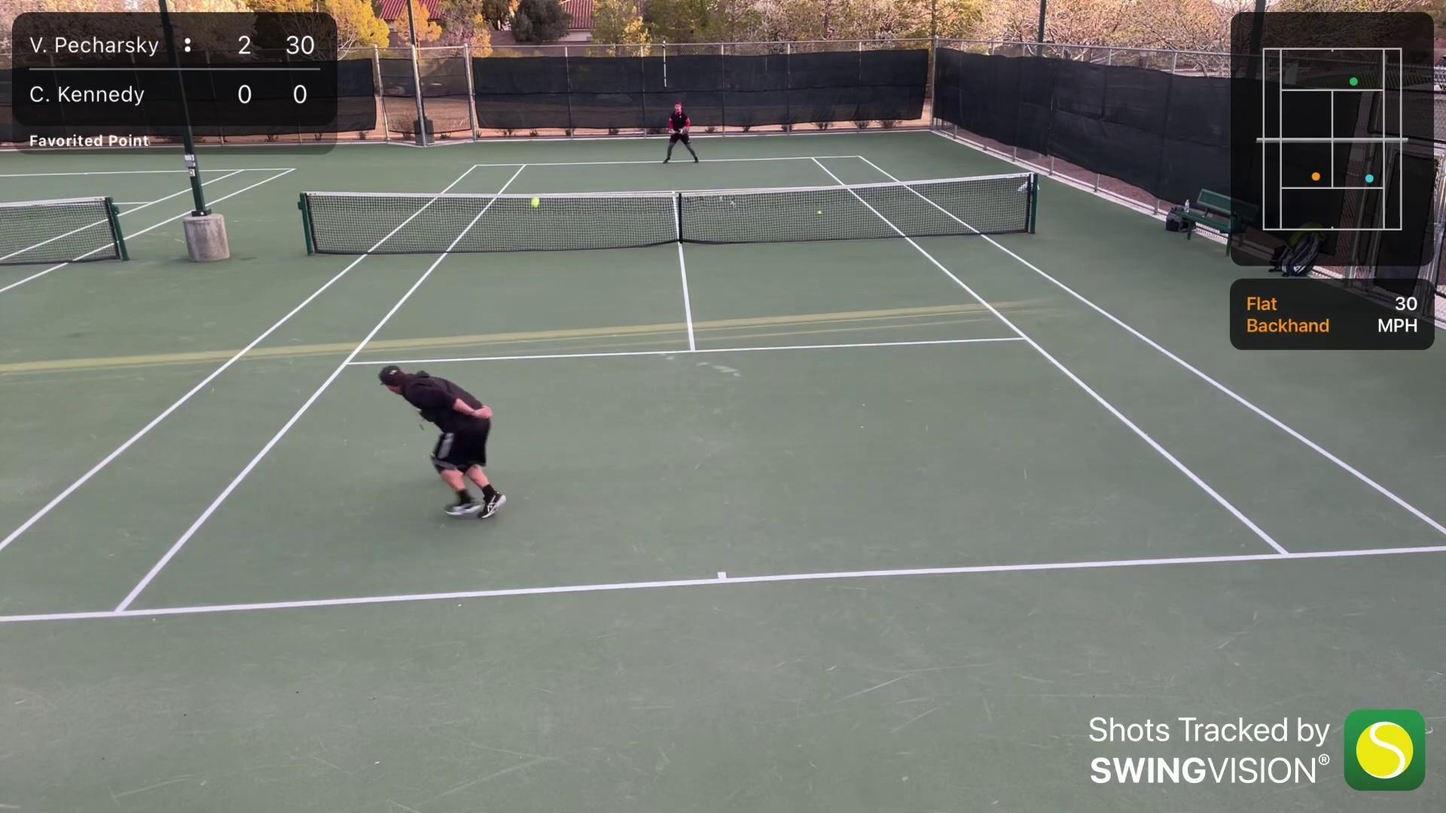ball: (527, 195, 542, 211), (815, 209, 823, 216)
